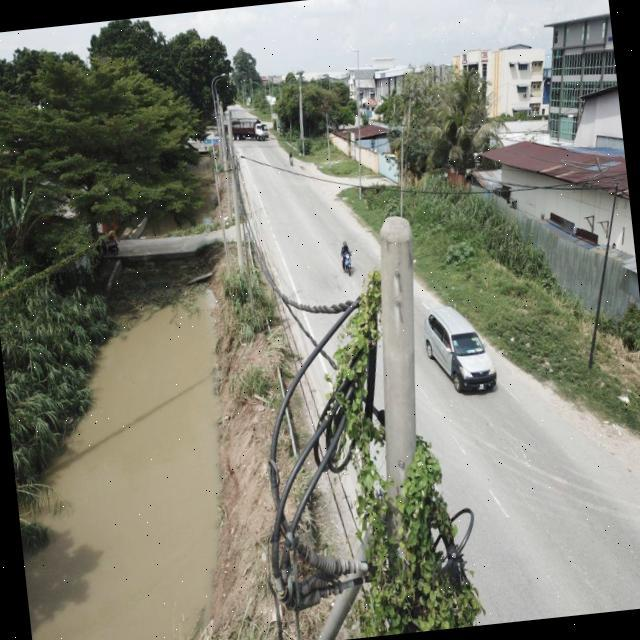critical vegetation: (287, 250, 491, 640)
